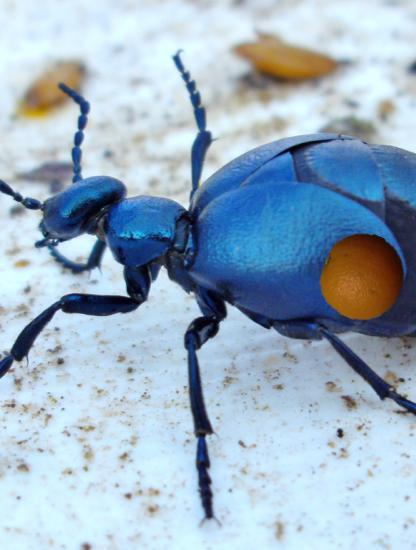Orange: (319, 233, 406, 320)
